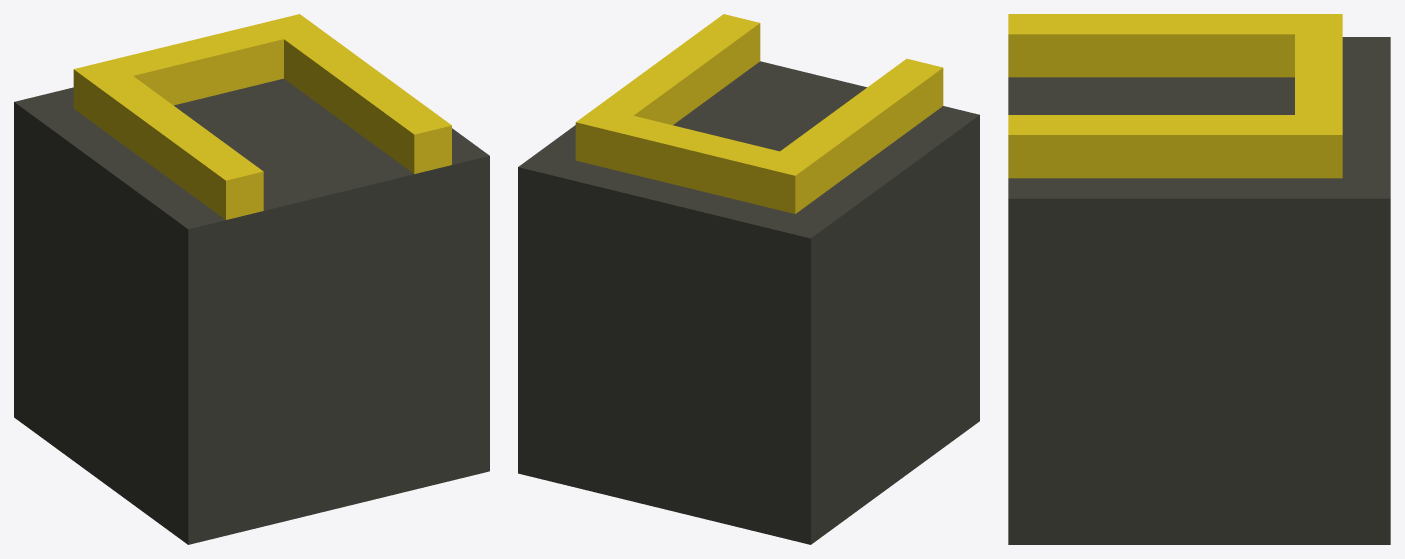
File: UShapedBorder.fbx
The picture shows the model from 3 angles, left to right: view 1: azimuth 30°, elevation 25°; view 2: azimuth 150°, elevation 25°; view 3: azimuth 270°, elevation 25°; orthographic projection. The views are drawn at different scales.
Parts seen in each view (by area): view 1: Border, Outline; view 2: Border, Outline; view 3: Border, Outline.
Boxes of the visible parts, x1,y1,x2,y2 form: Border: [14, 78, 489, 544]; Outline: [73, 14, 451, 219]; Border: [518, 61, 979, 544]; Outline: [575, 14, 943, 213]; Border: [1008, 37, 1390, 544]; Outline: [1008, 14, 1342, 178].
Bounding box in the file's own units: 100 × 112 × 100.
